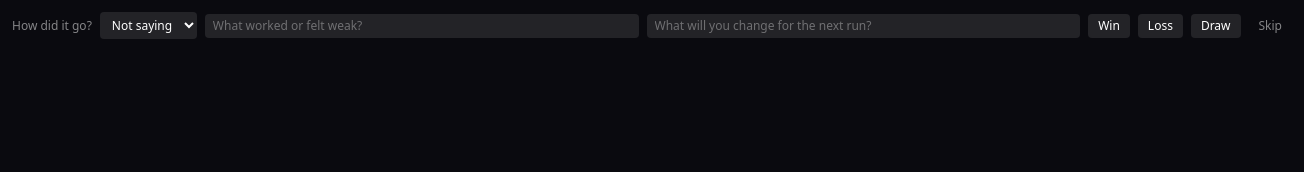
Scenario: RecordResultBar › keeps the playtest open when the request fails
This screenshot has width=1304, height=172.
Click the button "Win". click: (1109, 26)
box: [1088,14,1130,38]
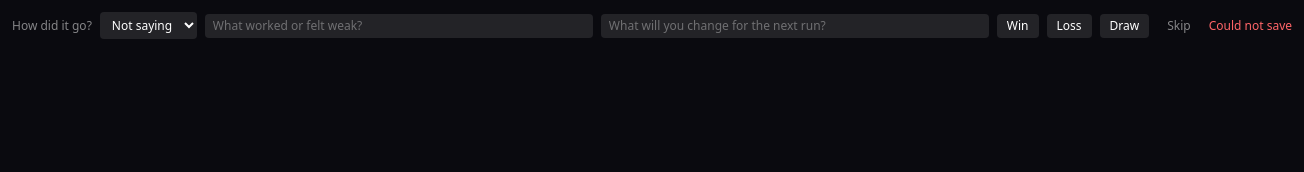
Result: the text "Could not save" is shown at [1209,18,1292,34]
